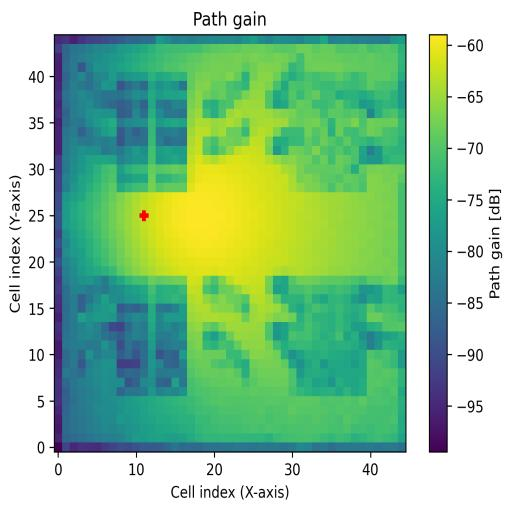Concrete: (297, 75, 367, 192)
Glass: (116, 73, 186, 193)
Metal: (289, 275, 368, 397)
Wood: (117, 276, 187, 397)
